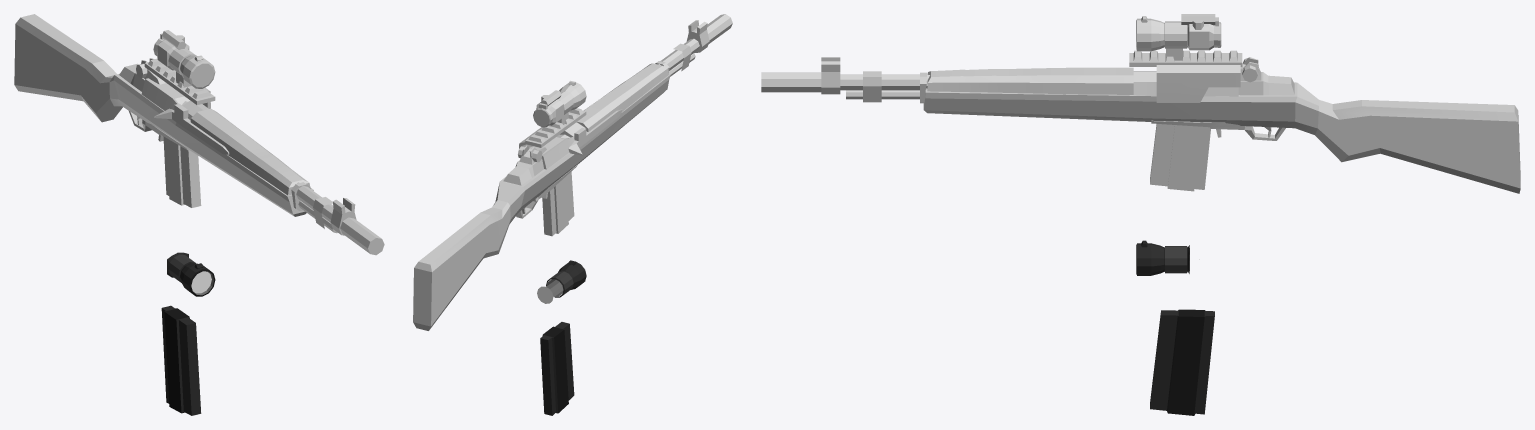
File: M14_Gun.glb
3 renders of one model, left to right at view 1: azimuth 30°, elevation 25°; view 2: azimuth 150°, elevation 25°; view 3: azimuth 270°, elevation 25°, orthographic. The views are drawn at different scales.
Parts seen in each view (by area): view 1: M14Body.001, M14Mag, M14Scope, M14Glass; view 2: M14Body.001, M14Mag, M14Scope; view 3: M14Body.001, M14Mag, M14Scope.
Part boxes in pixels (left/top/right/bottom): M14Body.001: left=14, top=14, right=384, bottom=255; M14Mag: left=161, top=305, right=201, bottom=415; M14Scope: left=167, top=252, right=215, bottom=296; M14Glass: left=191, top=271, right=211, bottom=293; M14Body.001: left=413, top=14, right=732, bottom=330; M14Mag: left=540, top=322, right=574, bottom=415; M14Scope: left=546, top=260, right=586, bottom=297; M14Body.001: left=761, top=14, right=1520, bottom=193; M14Mag: left=1150, top=309, right=1214, bottom=415; M14Scope: left=1136, top=240, right=1189, bottom=275.
Size of the model in its own units: 0.0805 by 0.6167 by 1.07.
Materials: 4 (1 with a texture image).
